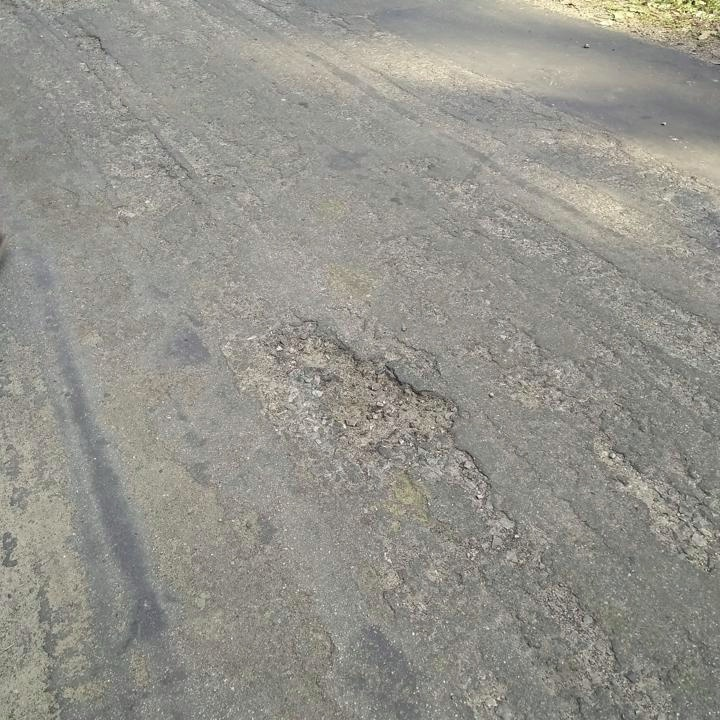pothole: (289, 330, 464, 452)
